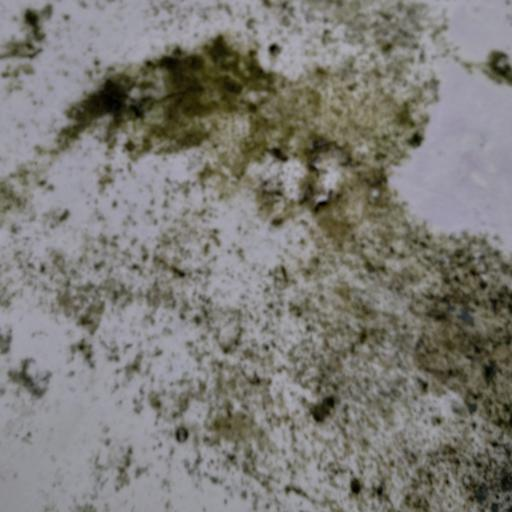algae: (37, 17, 512, 512)
